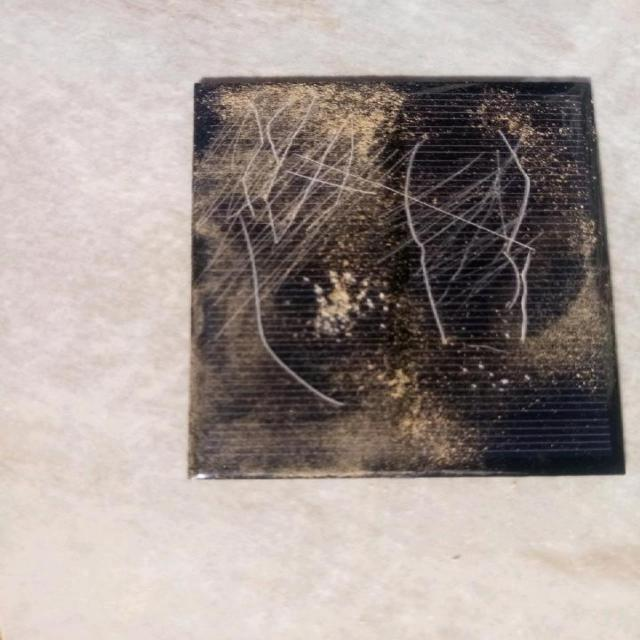faulty: (200, 74, 620, 474)
